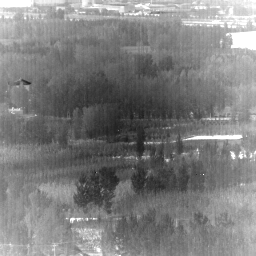aircraft: (118, 130, 120, 132)
